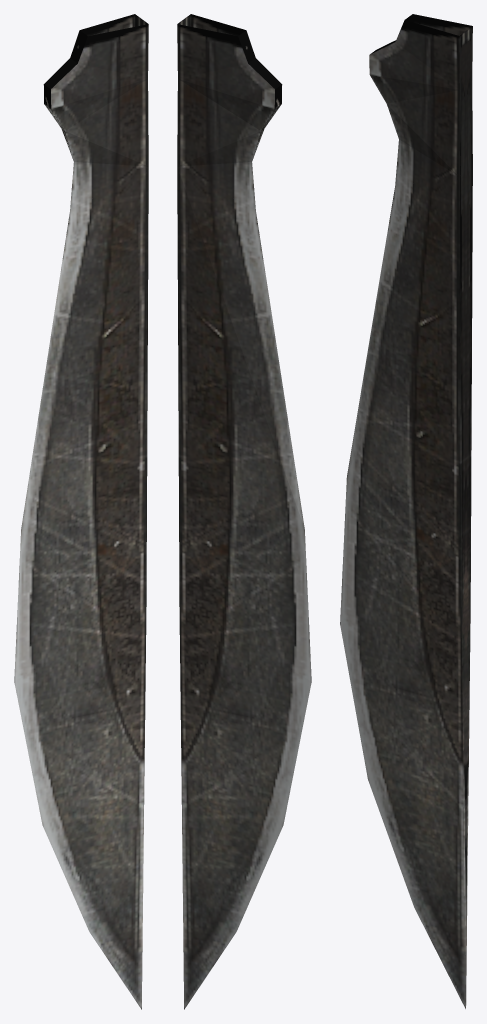
The model's file is Yuanyuekandao_body.FBX.
3 views of the same model, side by side, from view 1: azimuth 30°, elevation 25°; view 2: azimuth 150°, elevation 25°; view 3: azimuth 330°, elevation 25° (orthographic).
Visible parts, largest first — view 1: Yuanyuekandao_body; view 2: Yuanyuekandao_body; view 3: Yuanyuekandao_body.
Part boxes in pixels (left/top/right/bottom): Yuanyuekandao_body: left=14, top=14, right=148, bottom=1009; Yuanyuekandao_body: left=177, top=14, right=311, bottom=1009; Yuanyuekandao_body: left=340, top=14, right=472, bottom=1008.
Bounding box in the file's own units: 11.7 × 86.81 × 2.19.
1 material, 1 textured.
